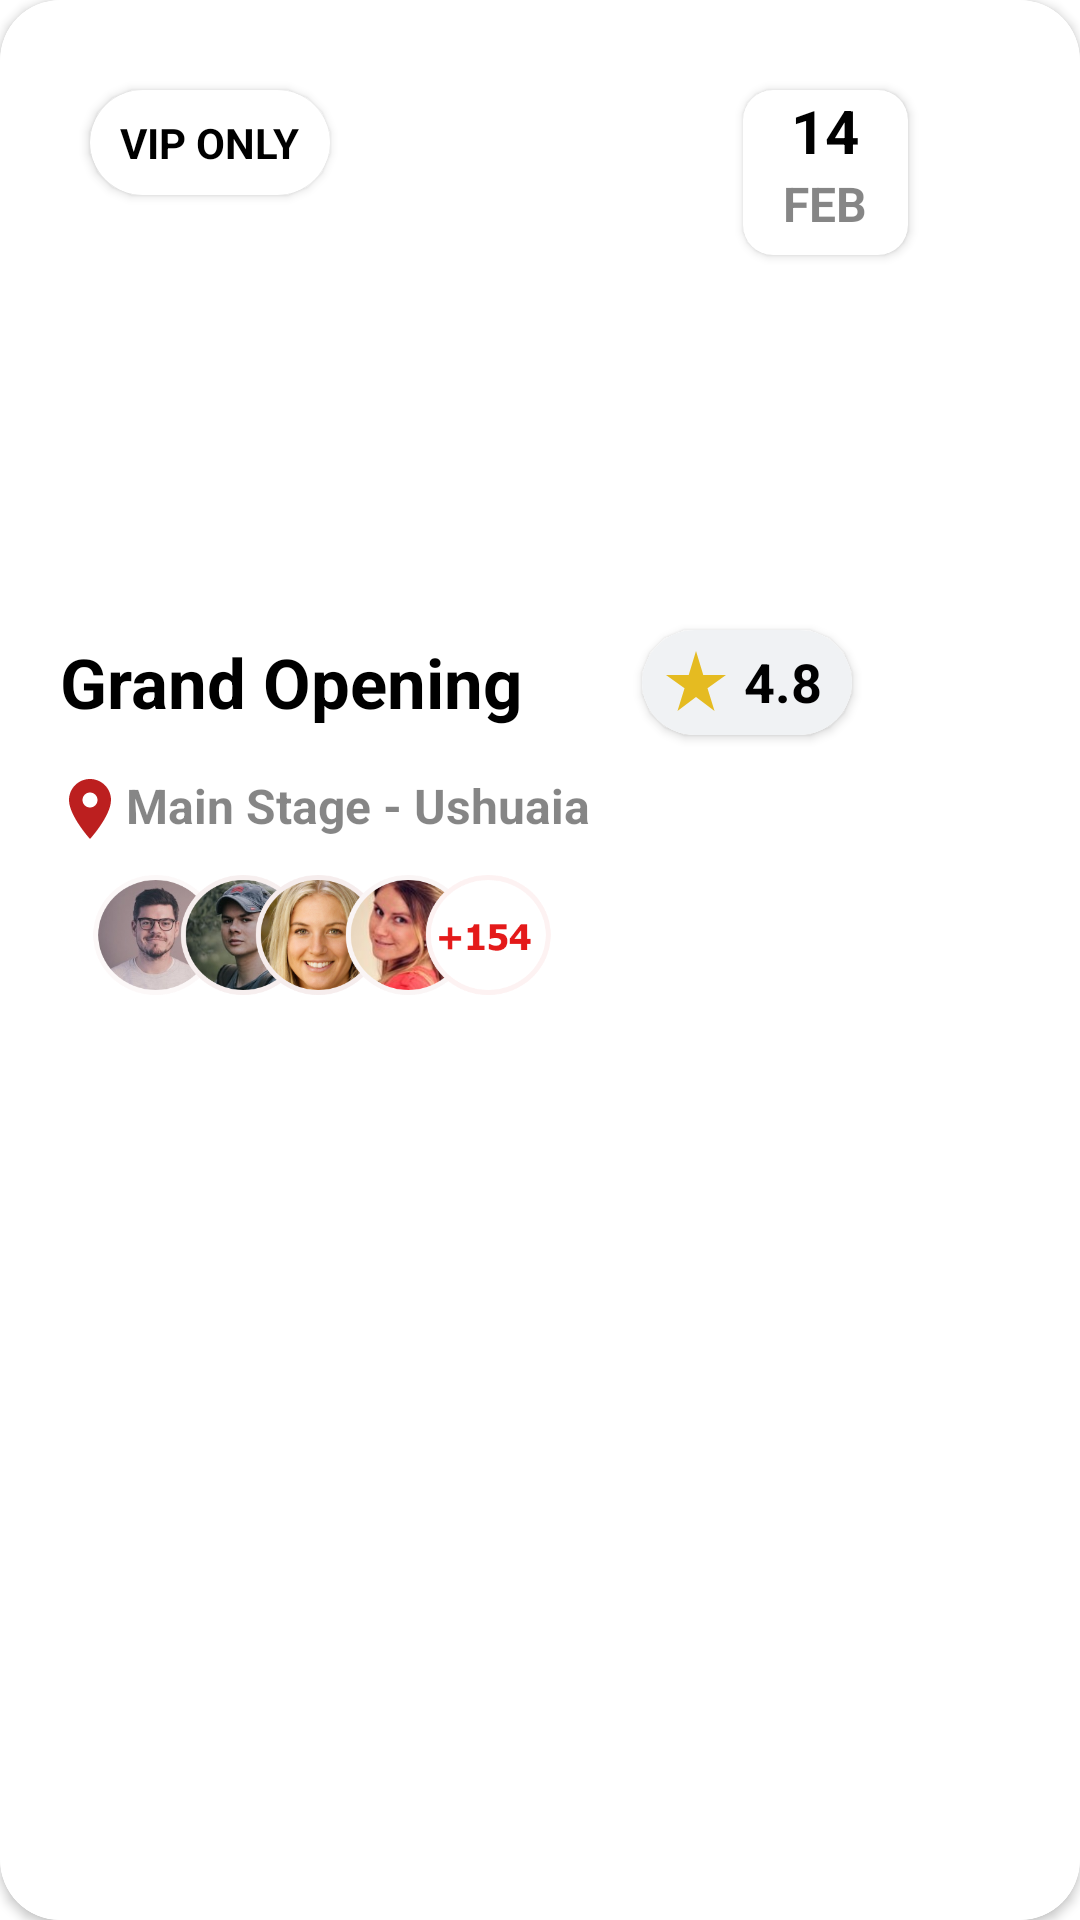

Point at icon controls on the screen. Image size 1080px x 1920px, points as point (x, y).
location on: point (90, 809)
star rate: point (696, 681)
